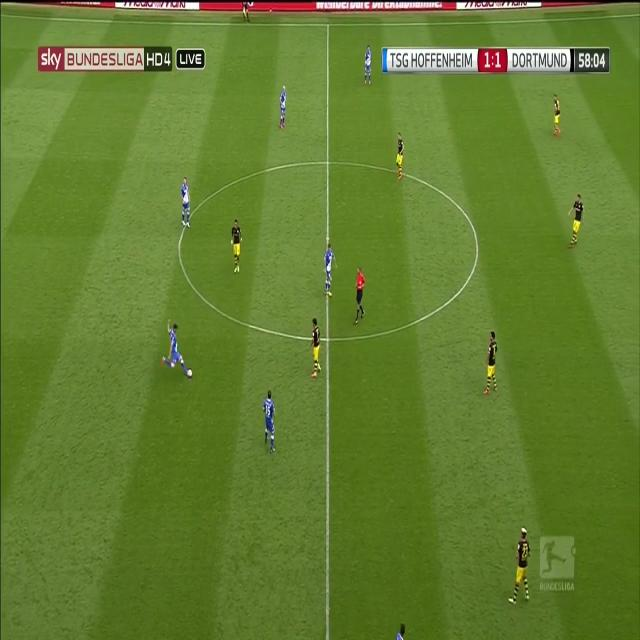Ball: (186, 367, 194, 381)
Player: (508, 524, 532, 608), (160, 318, 186, 372), (260, 388, 280, 455), (483, 329, 500, 402), (566, 194, 584, 254), (309, 314, 323, 384), (322, 242, 338, 298), (231, 214, 244, 278), (180, 174, 193, 228), (278, 78, 288, 134), (362, 42, 374, 87), (396, 131, 405, 184), (552, 92, 561, 142)
Referee: (351, 262, 367, 330)
